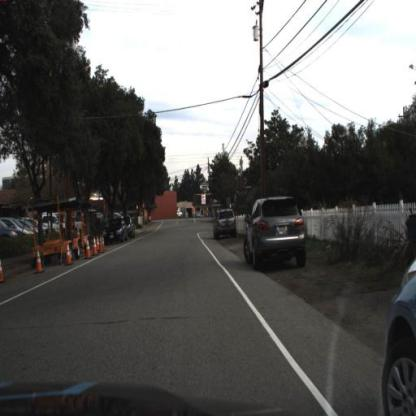car: (242, 195, 310, 272), (385, 249, 416, 416), (20, 212, 62, 240), (211, 208, 239, 242), (102, 217, 129, 248), (1, 217, 25, 243), (104, 220, 127, 241), (218, 211, 236, 237), (127, 219, 135, 239)
truck: (37, 195, 90, 268)
